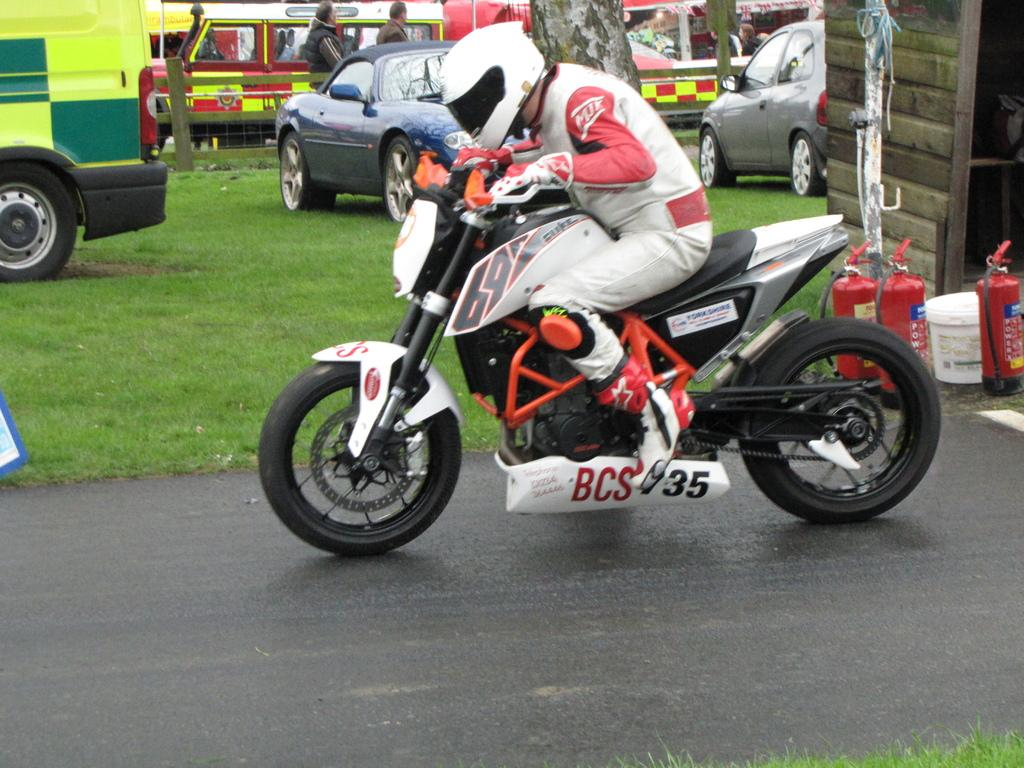helmet: (438, 21, 546, 151)
nohelmet: (315, 0, 339, 28), (389, 1, 407, 28)
